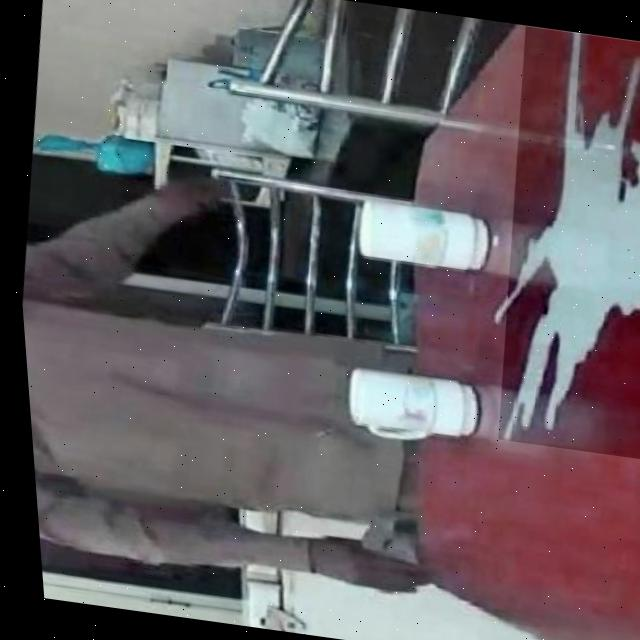spillage: (497, 34, 640, 441)
